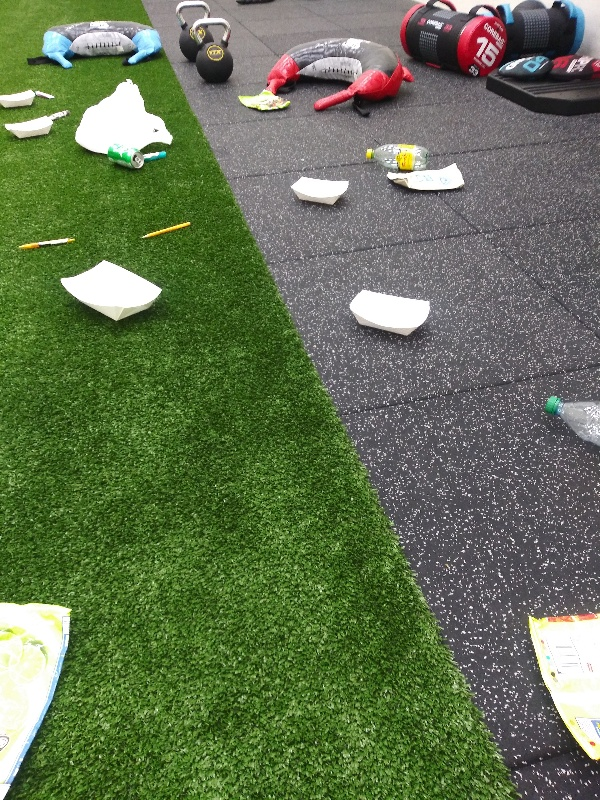bag: (1, 597, 77, 800), (524, 607, 600, 777), (385, 163, 471, 197), (233, 87, 294, 113)
bottle: (538, 392, 600, 459), (362, 144, 430, 172)
can: (104, 142, 145, 170)
plate: (59, 257, 169, 330), (348, 287, 434, 338), (285, 174, 354, 207), (4, 112, 56, 143), (1, 88, 39, 110)
